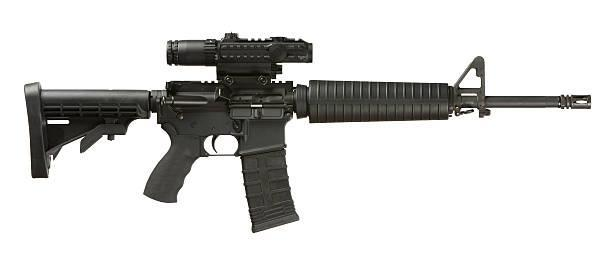larga: (24, 32, 592, 234)
